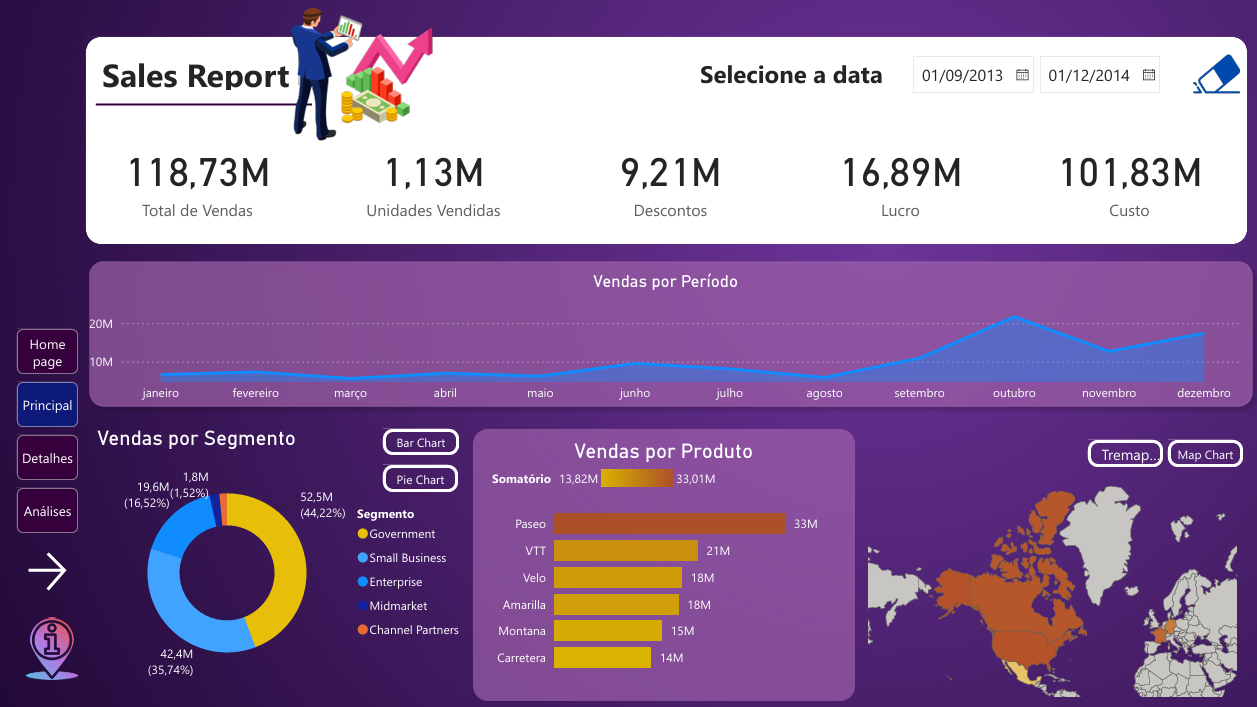

The dashboard page shown, as its layout file describes it:
{"tool":"powerbi","page":{"name":"Principal","canvas":[1280,720],"ordinal":1},"visuals":[{"type":"image","title":"Fundo Roxo","box":[0,0,1280.3,720],"z":0},{"type":"shape","box":[95.8,41.1,1161.3,206.6],"z":0,"group":"g4"},{"type":"shape","box":[90.5,255.5,1181.8,163.7],"z":0,"group":"g3"},{"type":"donutChart","title":"Vendas por Segmento","fields":{"Y":["Sum(financials. Sales)"],"Category":["financials.Segment"]},"box":[102,429.7,380.5,271.3],"z":0,"group":"g2"},{"type":"shapeMap","title":"Sales x map","fields":{"Category":["financials.Country"],"Value":["Sum(financials. Sales)"]},"box":[874.1,479.2,377.5,226.8],"z":0,"group":"g1"},{"type":"shape","box":[105.6,92.3,216.7,32.8],"z":1000,"group":"g4"},{"type":"areaChart","title":"Vendas por Período","fields":{"Category":["financials.Date.Variation.Hierarquia de datas.Trimestre","financials.Date.Variation.Hierarquia de datas.Mês"],"Y":["Sum(financials. Sales)"]},"box":[94.3,274.7,1163.2,139.7],"z":1000,"group":"g3"},{"type":"actionButton","title":"Botão - Next","box":[32,548.9,48.8,52.2],"z":1000},{"type":"image","box":[26.1,615.9,71.5,72.9],"z":1250,"group":"g5"},{"type":"actionButton","box":[31.6,615.9,63.2,72.9],"z":1500,"group":"g5"},{"type":"slicer","fields":{"Values":["financials.Date"]},"box":[909.9,50.5,272.2,55.6],"z":2000,"group":"g4"},{"type":"pageNavigator","box":[28.5,346.7,61.4,205],"z":2000,"group":"g5"},{"type":"actionButton","title":"Botão - bar","box":[393.4,432.9,75.1,25.6],"z":2000,"group":"g2"},{"type":"shape","box":[482.9,433.4,382.2,271.3],"z":2000},{"type":"actionButton","title":"Botão - map","box":[1177.5,444.2,75.1,27.3],"z":2000,"group":"g1"},{"type":"textbox","box":[704.6,56.2,199.6,45.6],"z":3000,"group":"g4"},{"type":"group","id":"g1","title":"Sales x país","box":[873.8,444.2,382,261.9],"z":3000},{"type":"actionButton","title":"Botão - tremap","box":[1097.3,444.2,75.1,27.3],"z":3000,"group":"g1"},{"type":"actionButton","title":"Botão -pie","box":[393.2,469.1,74.8,26.6],"z":3000,"group":"g2"},{"type":"card","fields":{"Values":["Sum(financials.Units Sold)"]},"box":[338.3,130.3,211,105.5],"z":4000,"group":"g4"},{"type":"clusteredBarChart","title":"Vendas por Produto","fields":{"Y":["Sum(financials. Sales)"],"Category":["financials.Product"]},"box":[496.7,442.8,353.6,245.8],"z":4000},{"type":"textbox","box":[107,50.9,215.2,48.5],"z":5000,"group":"g4"},{"type":"group","id":"g2","title":"Sales x Segmento","box":[94.9,429.7,387.6,271.8],"z":5000},{"type":"actionButton","box":[1196.4,54.7,59.9,51.3],"z":6000,"group":"g4"},{"type":"group","id":"g3","title":"Perspectiva temporal das vendas","box":[90.5,255.5,1181.8,163.7],"z":6000},{"type":"group","id":"g4","title":"Filtro por data","box":[95.8,0,1161.8,247.5],"z":7000},{"type":"card","fields":{"Values":["Sum(financials.Profit)"]},"box":[804.4,130.3,211,105.5],"z":7000,"group":"g4"},{"type":"image","title":"clean","box":[1196.4,50.5,59.9,55.6],"z":8000,"group":"g4"},{"type":"card","fields":{"Values":["Sum(financials.Discounts)"]},"box":[574.9,130.3,211,105.5],"z":9000,"group":"g4"},{"type":"card","fields":{"Values":["Sum(financials.COGS)"]},"box":[1033.9,130.3,211,105.5],"z":10000,"group":"g4"},{"type":"group","id":"g5","title":"Menu","box":[26.1,346.7,71.5,342],"z":10000},{"type":"card","fields":{"Values":["Sum(financials. Sales)"]},"box":[101.7,130.3,211,105.5],"z":11000,"group":"g4"},{"type":"image","box":[265.1,0,252.9,155.7],"z":12000,"group":"g4"}]}

Visuals, with their boxes in screenshot pixels (x1, y1, x2, y2), scaled from the page's 1280x720 canvas onto the 1257x707 screenshot:
"Fundo Roxo" image: l=0, t=0, r=1256, b=706
shape: l=94, t=40, r=1235, b=243
shape: l=89, t=251, r=1249, b=412
"Vendas por Segmento" donutChart: l=100, t=422, r=474, b=688
"Sales x map" shapeMap: l=858, t=471, r=1229, b=693
shape: l=104, t=91, r=317, b=123
"Vendas por Período" areaChart: l=93, t=270, r=1235, b=407
"Botão - Next" actionButton: l=31, t=539, r=79, b=590
image: l=26, t=605, r=96, b=676
actionButton: l=31, t=605, r=93, b=676
slicer - financials.Date: l=894, t=50, r=1161, b=104
pageNavigator: l=28, t=340, r=88, b=542
"Botão - bar" actionButton: l=386, t=425, r=460, b=450
shape: l=474, t=426, r=850, b=692
"Botão - map" actionButton: l=1156, t=436, r=1230, b=463
textbox: l=692, t=55, r=888, b=100
"Sales x país" group: l=858, t=436, r=1233, b=693
"Botão - tremap" actionButton: l=1078, t=436, r=1151, b=463
"Botão -pie" actionButton: l=386, t=461, r=460, b=487
card - Sum(financials.Units Sold): l=332, t=128, r=539, b=232
"Vendas por Produto" clusteredBarChart: l=488, t=435, r=835, b=676
textbox: l=105, t=50, r=316, b=98
"Sales x Segmento" group: l=93, t=422, r=474, b=689
actionButton: l=1175, t=54, r=1234, b=104
"Perspectiva temporal das vendas" group: l=89, t=251, r=1249, b=412
"Filtro por data" group: l=94, t=0, r=1235, b=243
card - Sum(financials.Profit): l=790, t=128, r=997, b=232
"clean" image: l=1175, t=50, r=1234, b=104
card - Sum(financials.Discounts): l=565, t=128, r=772, b=232
card - Sum(financials.COGS): l=1015, t=128, r=1223, b=232
"Menu" group: l=26, t=340, r=96, b=676
card - Sum(financials. Sales): l=100, t=128, r=307, b=232
image: l=260, t=0, r=509, b=153
